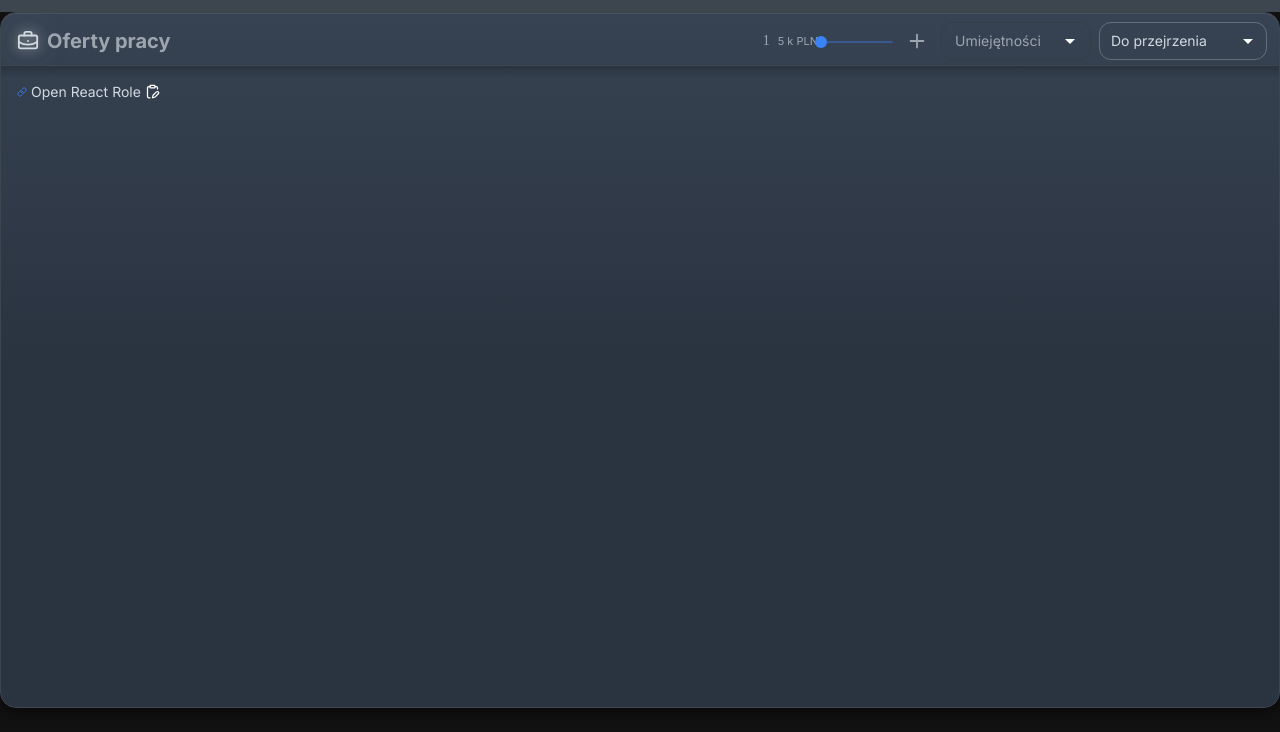
JobAds › keeps selected skills when switching status views
This screenshot has width=1280, height=732.
Press the mouse on the dropdown labelled "Umiejętności" at (1000, 41), box top-left (947, 28), bottom-right (1052, 54)
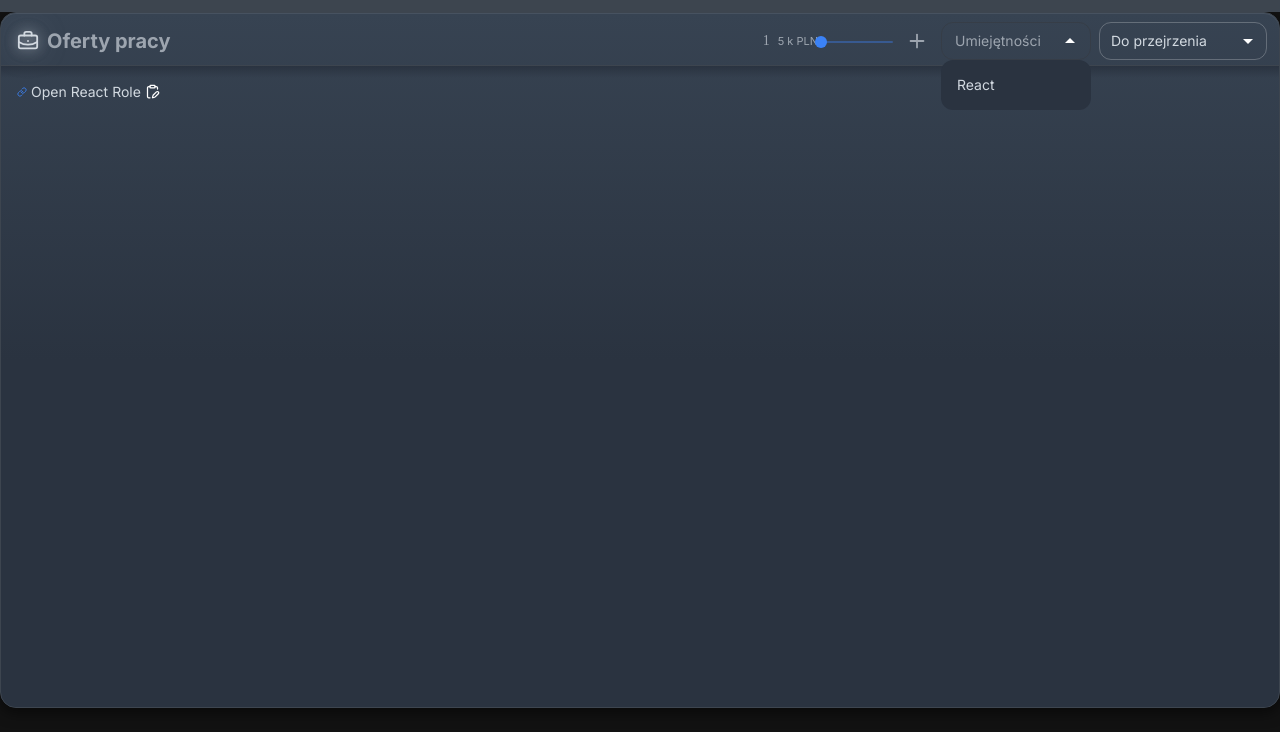
Click the option "React".
click(976, 84)  # box top-left (957, 76), bottom-right (994, 93)
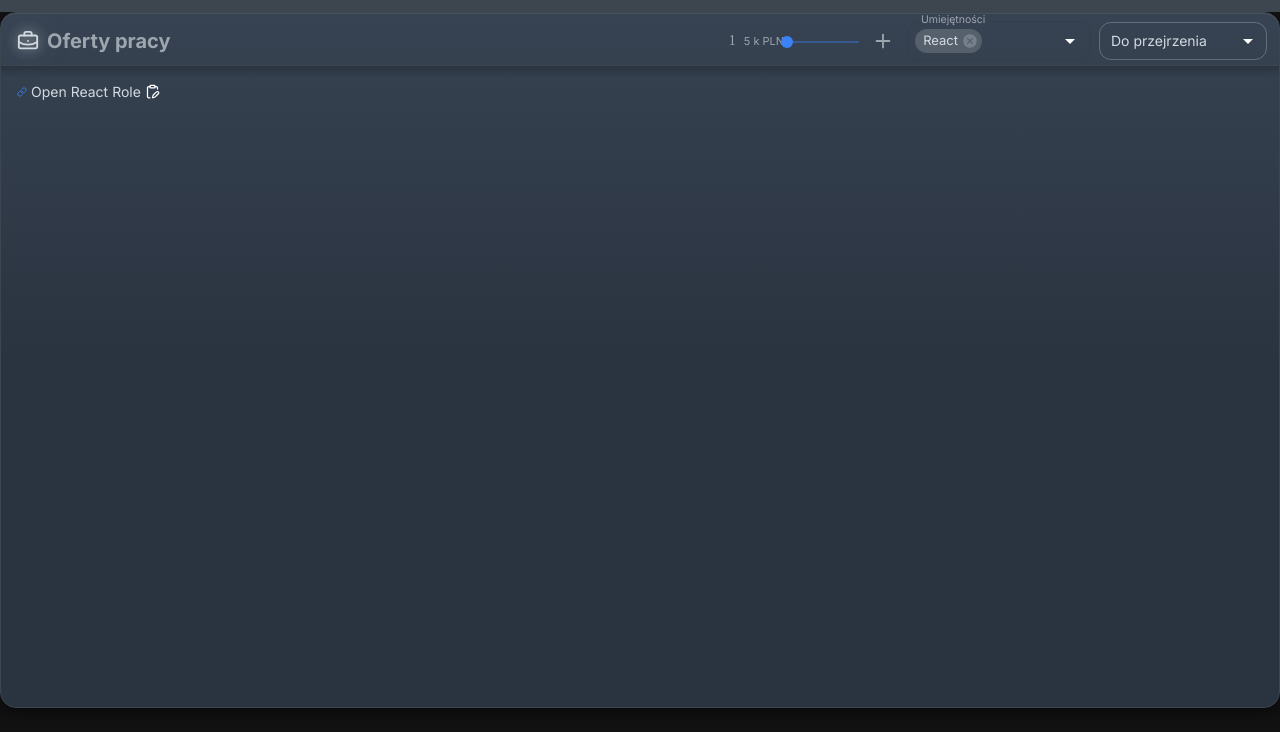
Expected: the text "Applied React Role" is not shown
Press the mouse on the dropdown named "Filtr" at (1159, 40), box top-left (1111, 32), bottom-right (1207, 49)
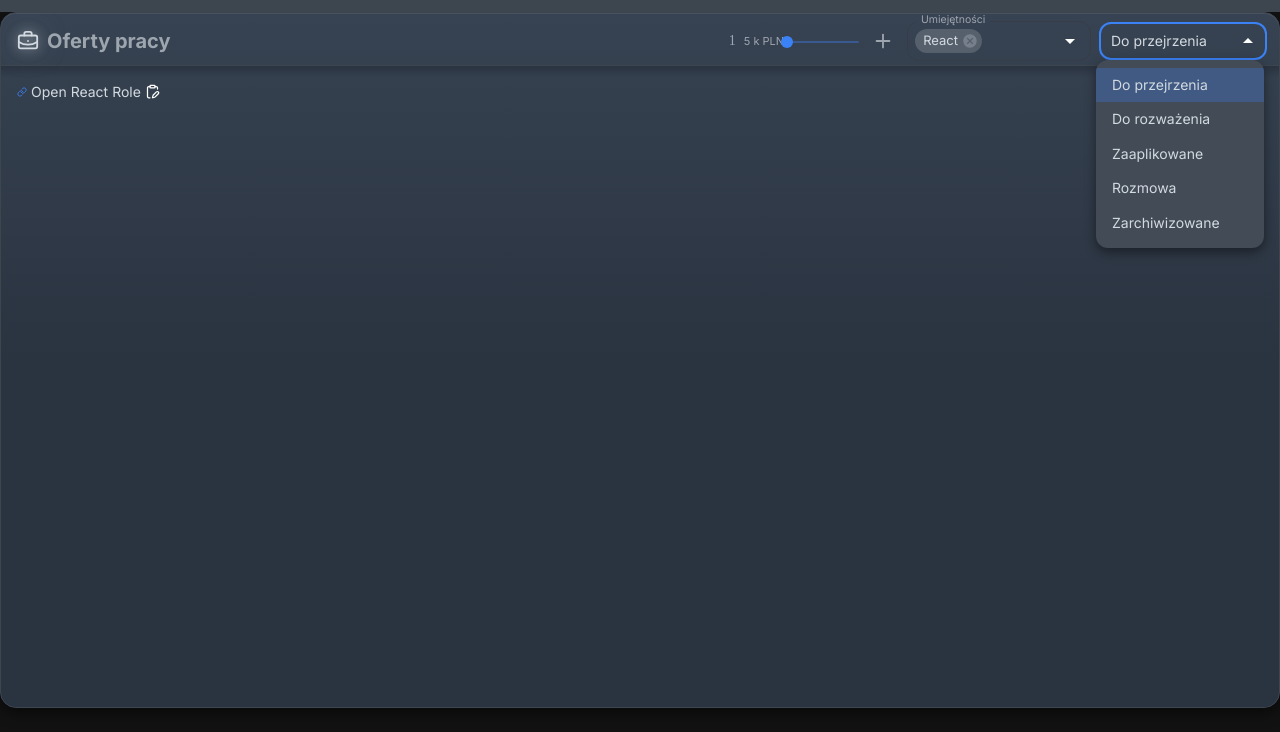
Click the option "Zaaplikowane".
click(1158, 153)  # box top-left (1112, 145), bottom-right (1203, 162)
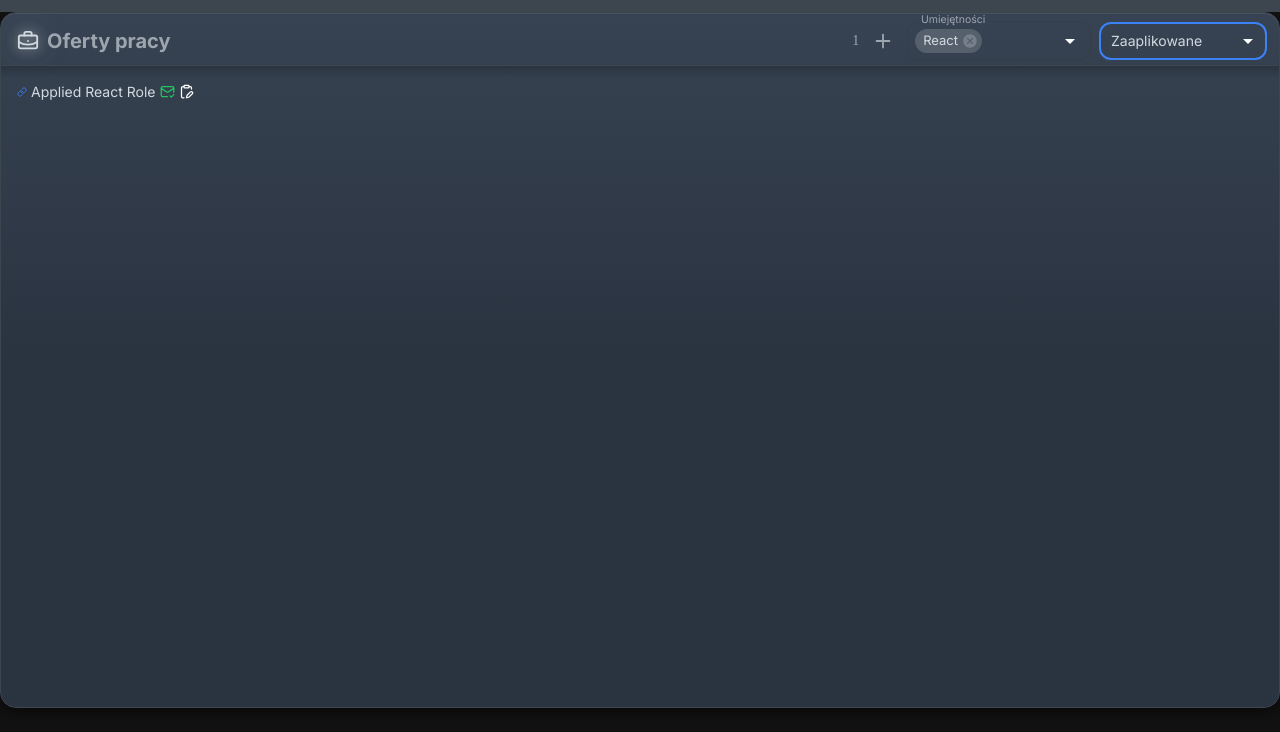
Now the button "React" is shown, box top-left (915, 29), bottom-right (982, 53)
Now the text "Applied React Role" is shown, box top-left (31, 80), bottom-right (156, 103)
